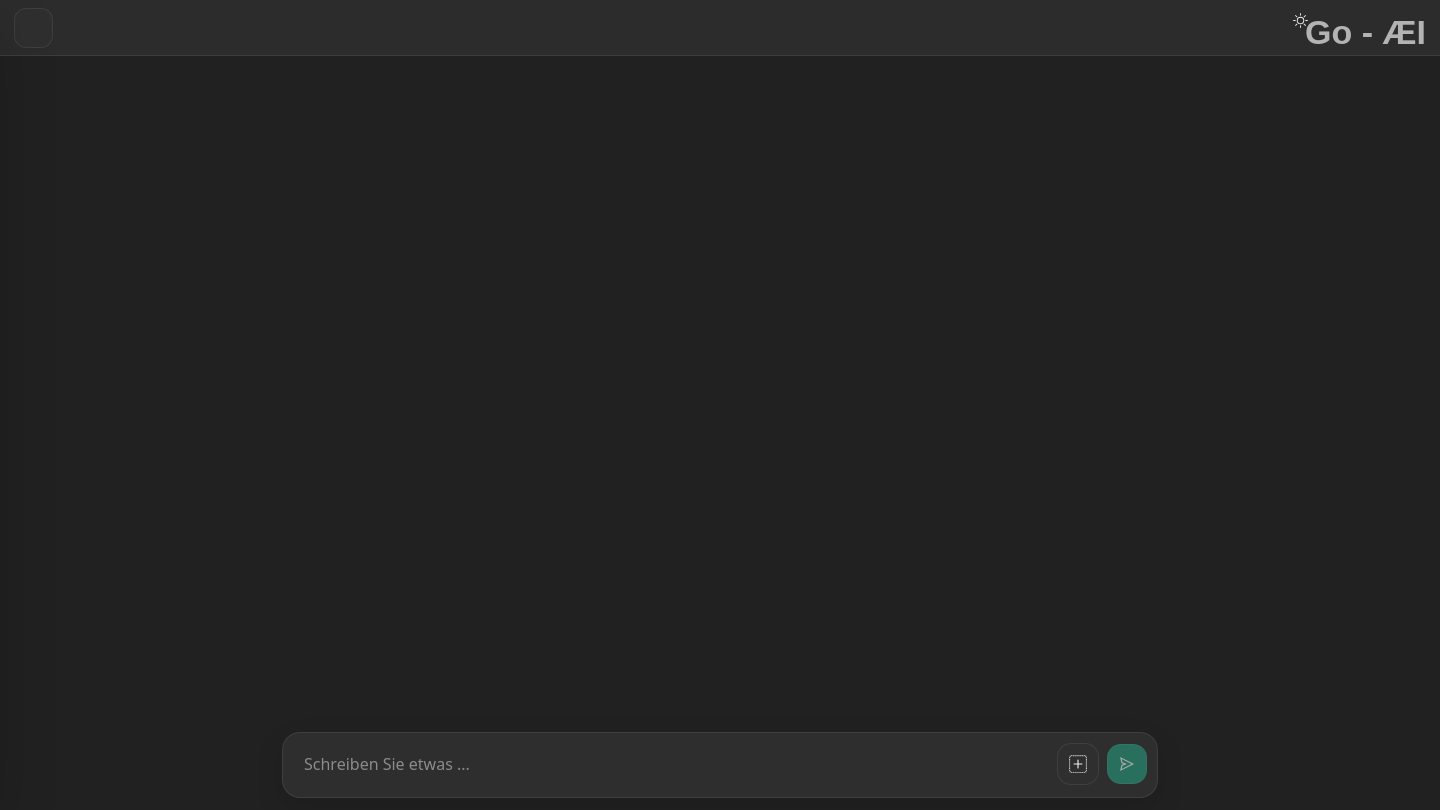
Test: sends a message and shows the assistant reply
Type "merhaba" into the text box with placeholder "Schreiben Sie etwas ..." at {"x": 671, "y": 765}, box [293,743,1049,787]
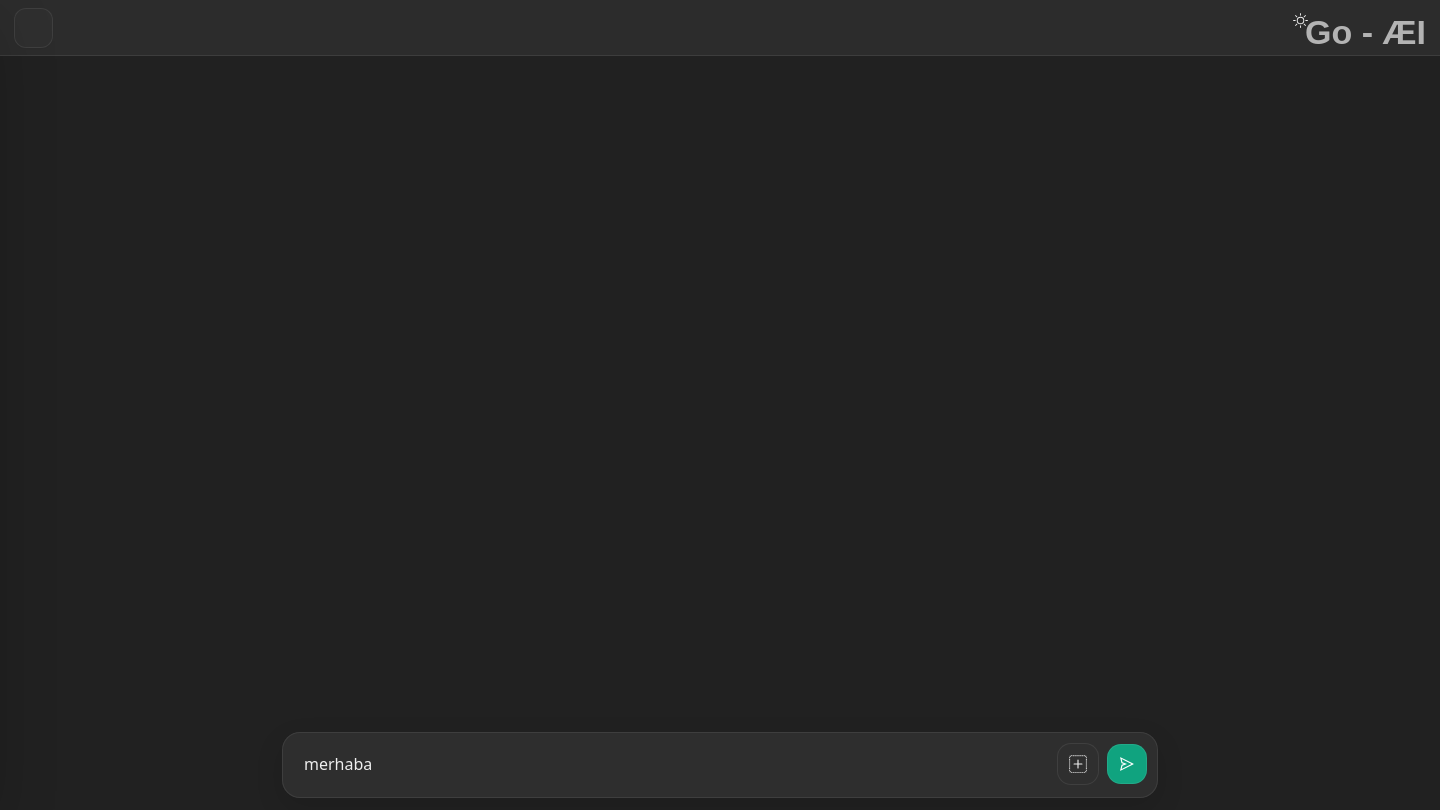
Click the button with class "sendBtn" at {"x": 1127, "y": 764}, box [1107,744,1147,784]
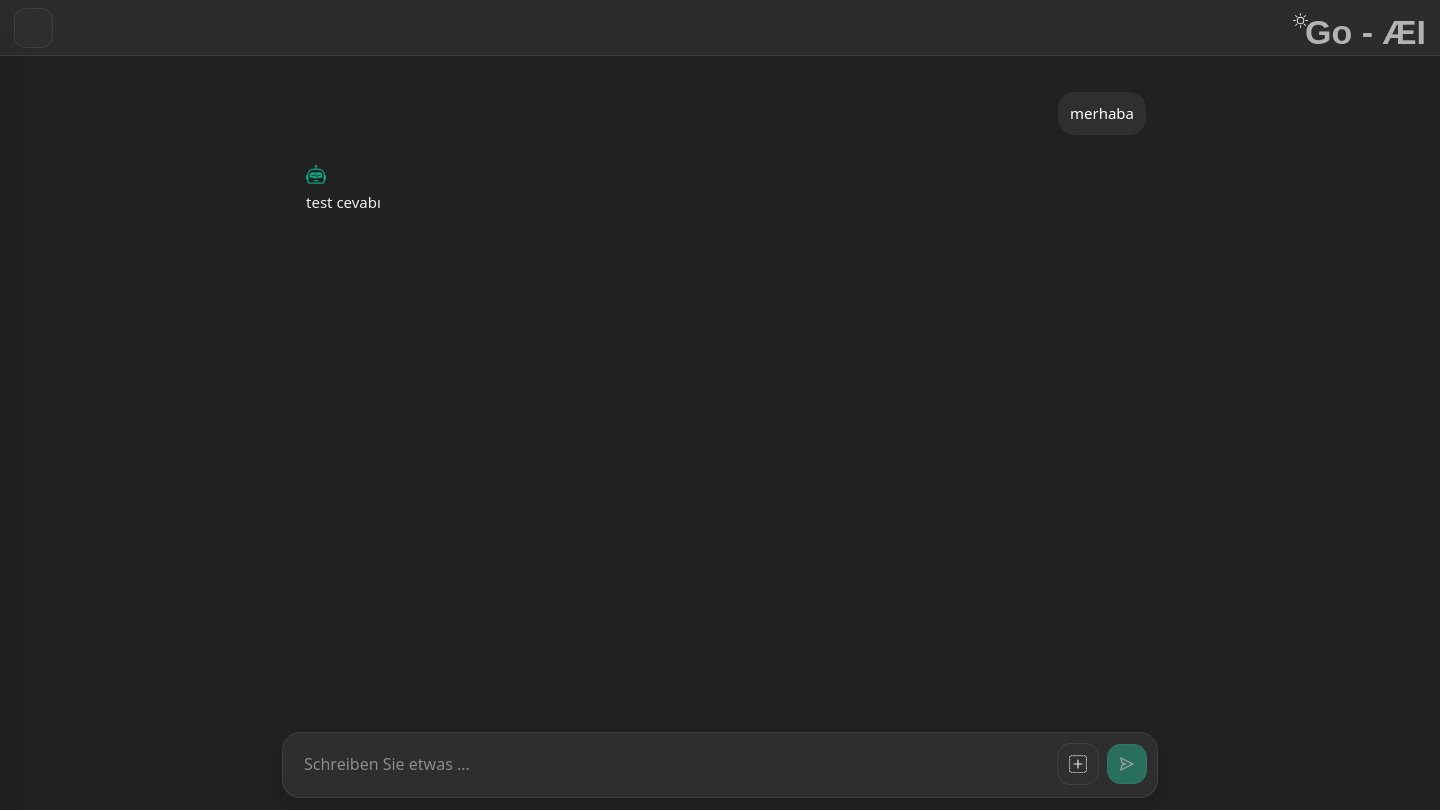
Expected: the text "test cevabı" is shown, [306,191,381,215]
